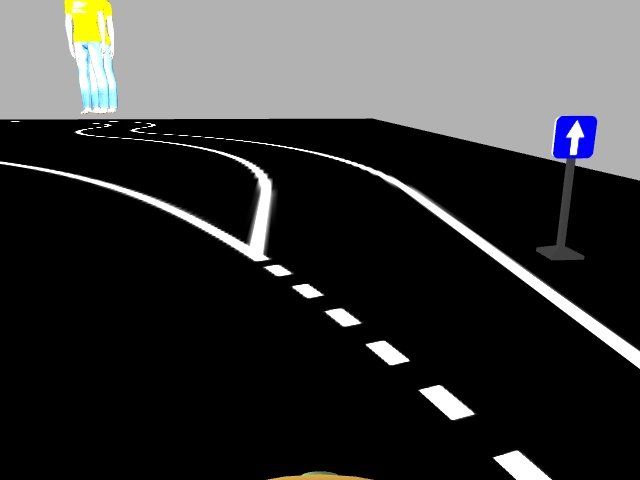OneWay: (554, 114, 596, 157)
